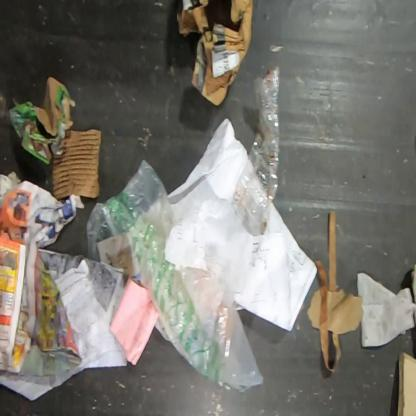cardboard: (176, 0, 254, 107), (8, 76, 76, 167), (51, 129, 102, 200), (327, 289, 363, 335), (396, 352, 415, 415), (306, 286, 321, 330)
soft_plastic: (86, 159, 265, 393), (233, 65, 282, 236)
